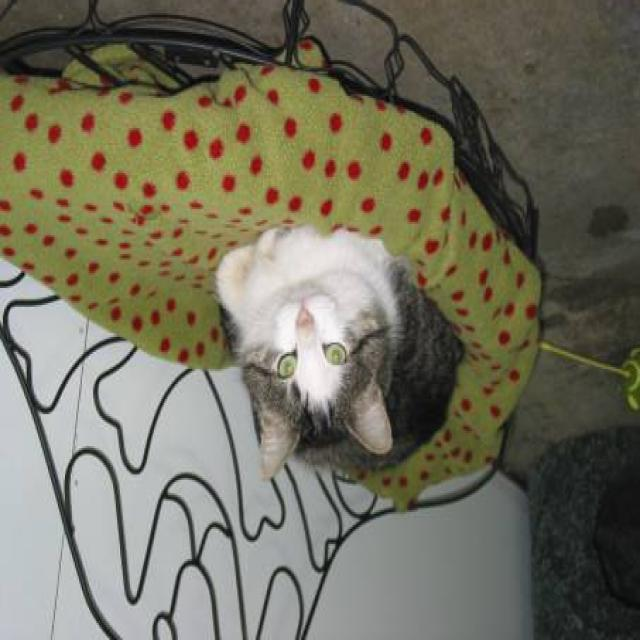Kucing: (241, 220, 494, 523)
